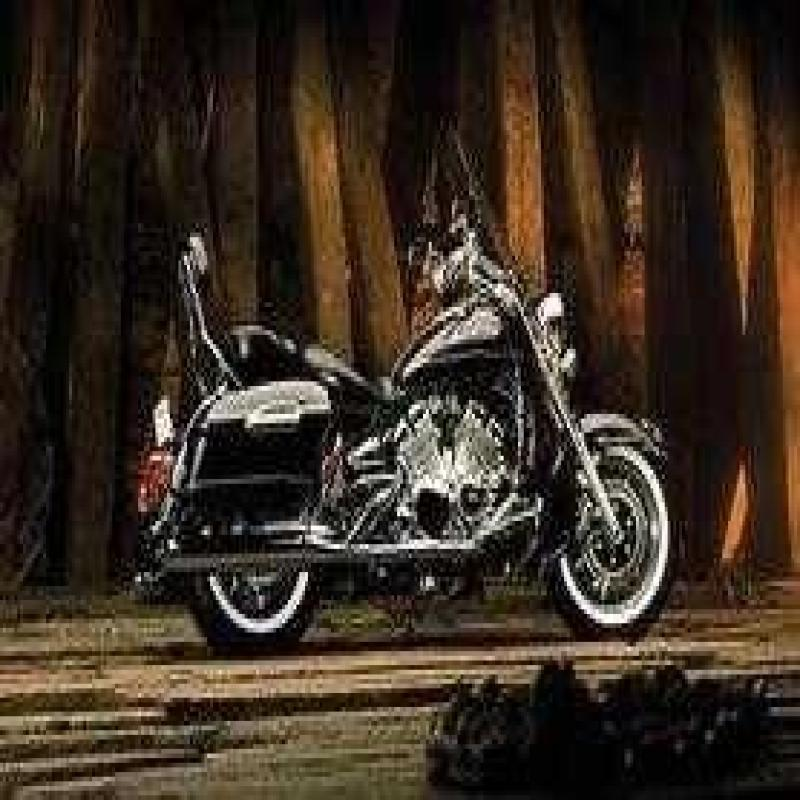bike: (124, 122, 686, 645)
